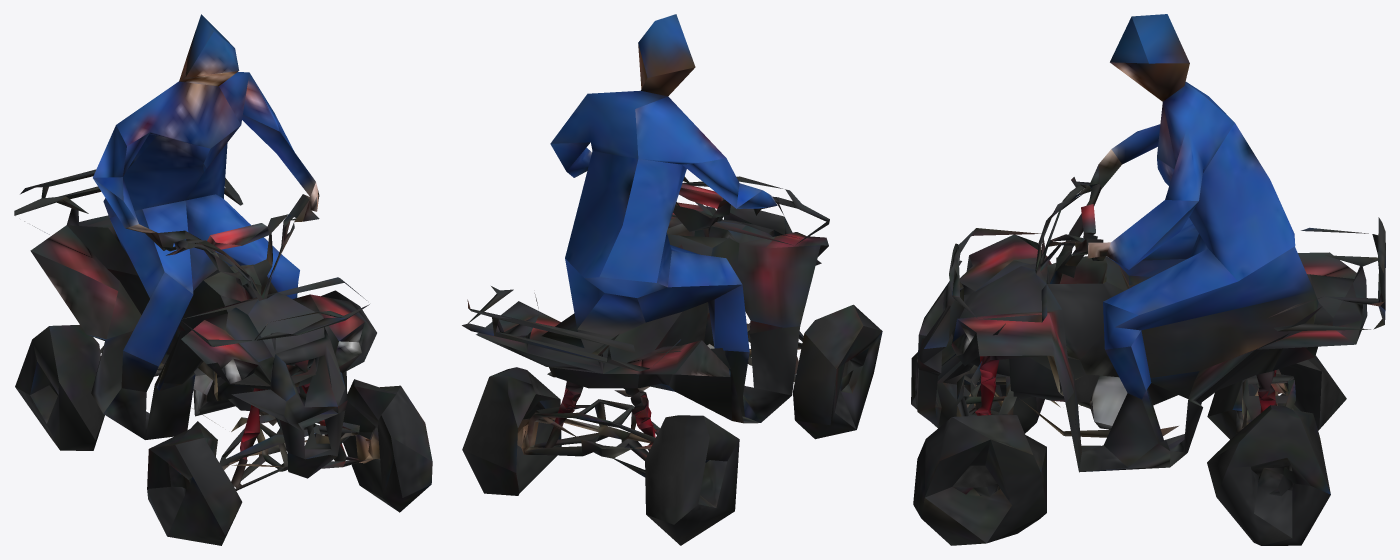
File: polwan_atv_lod2.glb
3 views of the same model, side by side, from view 1: azimuth 30°, elevation 25°; view 2: azimuth 150°, elevation 25°; view 3: azimuth 270°, elevation 25° (orthographic). The views are drawn at different scales.
Parts seen in each view (by area): view 1: tripo_node_9608bba5-029d-4360-9874-f094d58f642a; view 2: tripo_node_9608bba5-029d-4360-9874-f094d58f642a; view 3: tripo_node_9608bba5-029d-4360-9874-f094d58f642a.
Part boxes in pixels (left/top/right/bottom): tripo_node_9608bba5-029d-4360-9874-f094d58f642a: left=14, top=14, right=432, bottom=545; tripo_node_9608bba5-029d-4360-9874-f094d58f642a: left=462, top=14, right=882, bottom=545; tripo_node_9608bba5-029d-4360-9874-f094d58f642a: left=911, top=14, right=1385, bottom=545.
Bounding box in the file's own units: 0.54 × 0.99 × 0.8843.
1 material, 1 textured.
